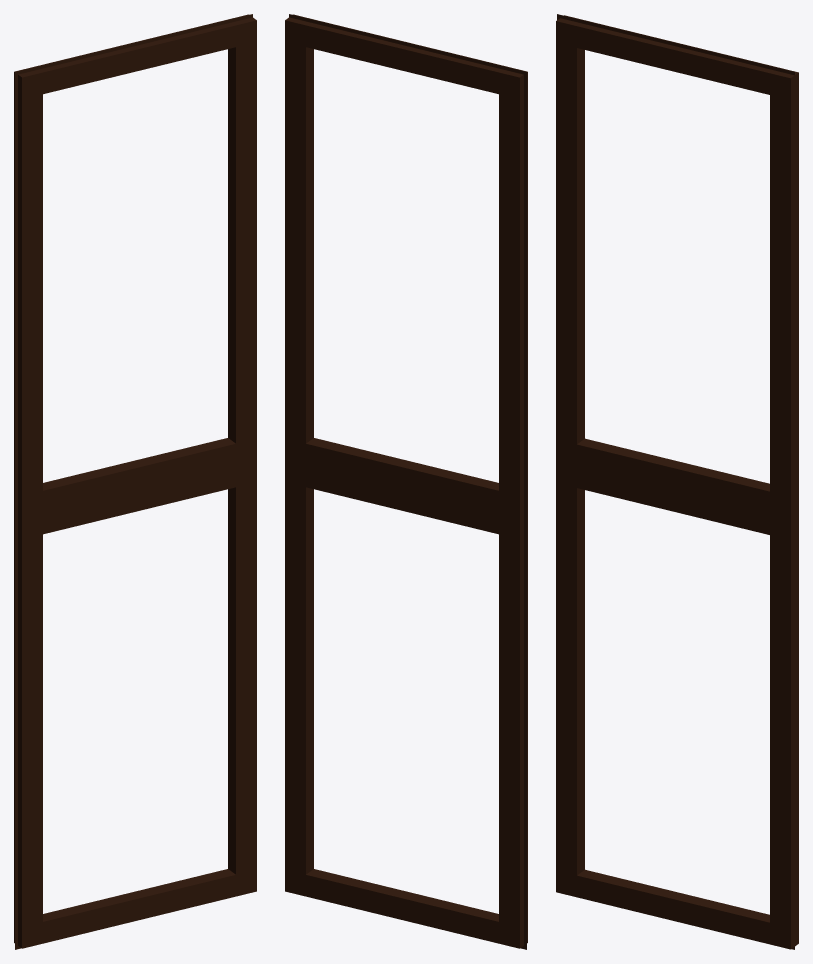
Rendered from drzi2_xd.fbx.
3 renders of one model, left to right at view 1: azimuth 30°, elevation 25°; view 2: azimuth 150°, elevation 25°; view 3: azimuth 330°, elevation 25°, orthographic.
Parts seen in each view (by area): view 1: Plane.011; view 2: Plane.011; view 3: Plane.011.
Boxes of the visible parts, box(x1,y1,x2,y2) form: Plane.011: box(14, 14, 256, 949); Plane.011: box(285, 14, 527, 949); Plane.011: box(556, 14, 798, 949).
Bounding box in the file's own units: 343 × 1208 × 20.09.
